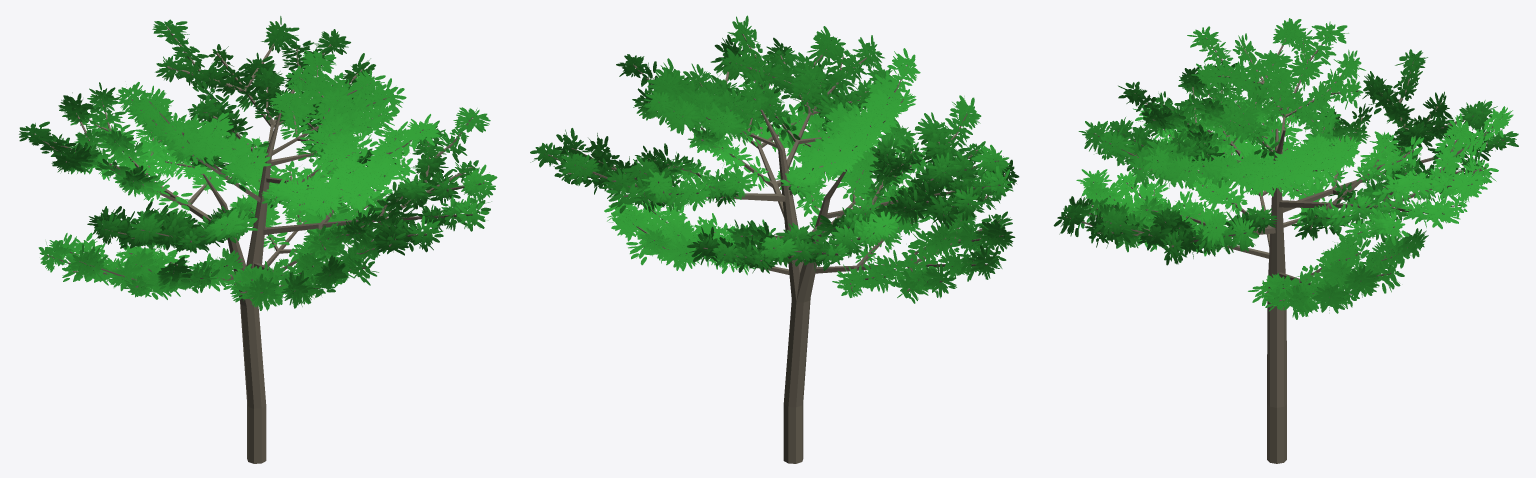
File: CayGoiDau2.fbx
3 renders of one model, left to right at view 1: azimuth 30°, elevation 25°; view 2: azimuth 150°, elevation 25°; view 3: azimuth 270°, elevation 25°, orthographic. The views are drawn at different scales.
Parts seen in each view (by area): view 1: Leaf, Trunk; view 2: Leaf, Trunk; view 3: Leaf, Trunk.
Boxes of the visible parts, bbox=[...] form: Leaf: bbox=[19, 16, 497, 310]; Trunk: bbox=[32, 26, 484, 463]; Leaf: bbox=[530, 15, 1019, 303]; Trunk: bbox=[545, 34, 1005, 463]; Leaf: bbox=[1053, 18, 1518, 319]; Trunk: bbox=[1065, 32, 1504, 463].
Bounding box in the file's own units: 5609 × 5094 × 5424.
2 materials, 1 textured.
